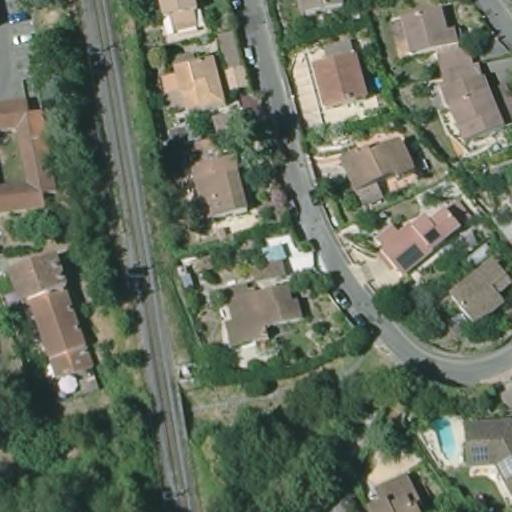pool: (430, 415, 459, 463)
